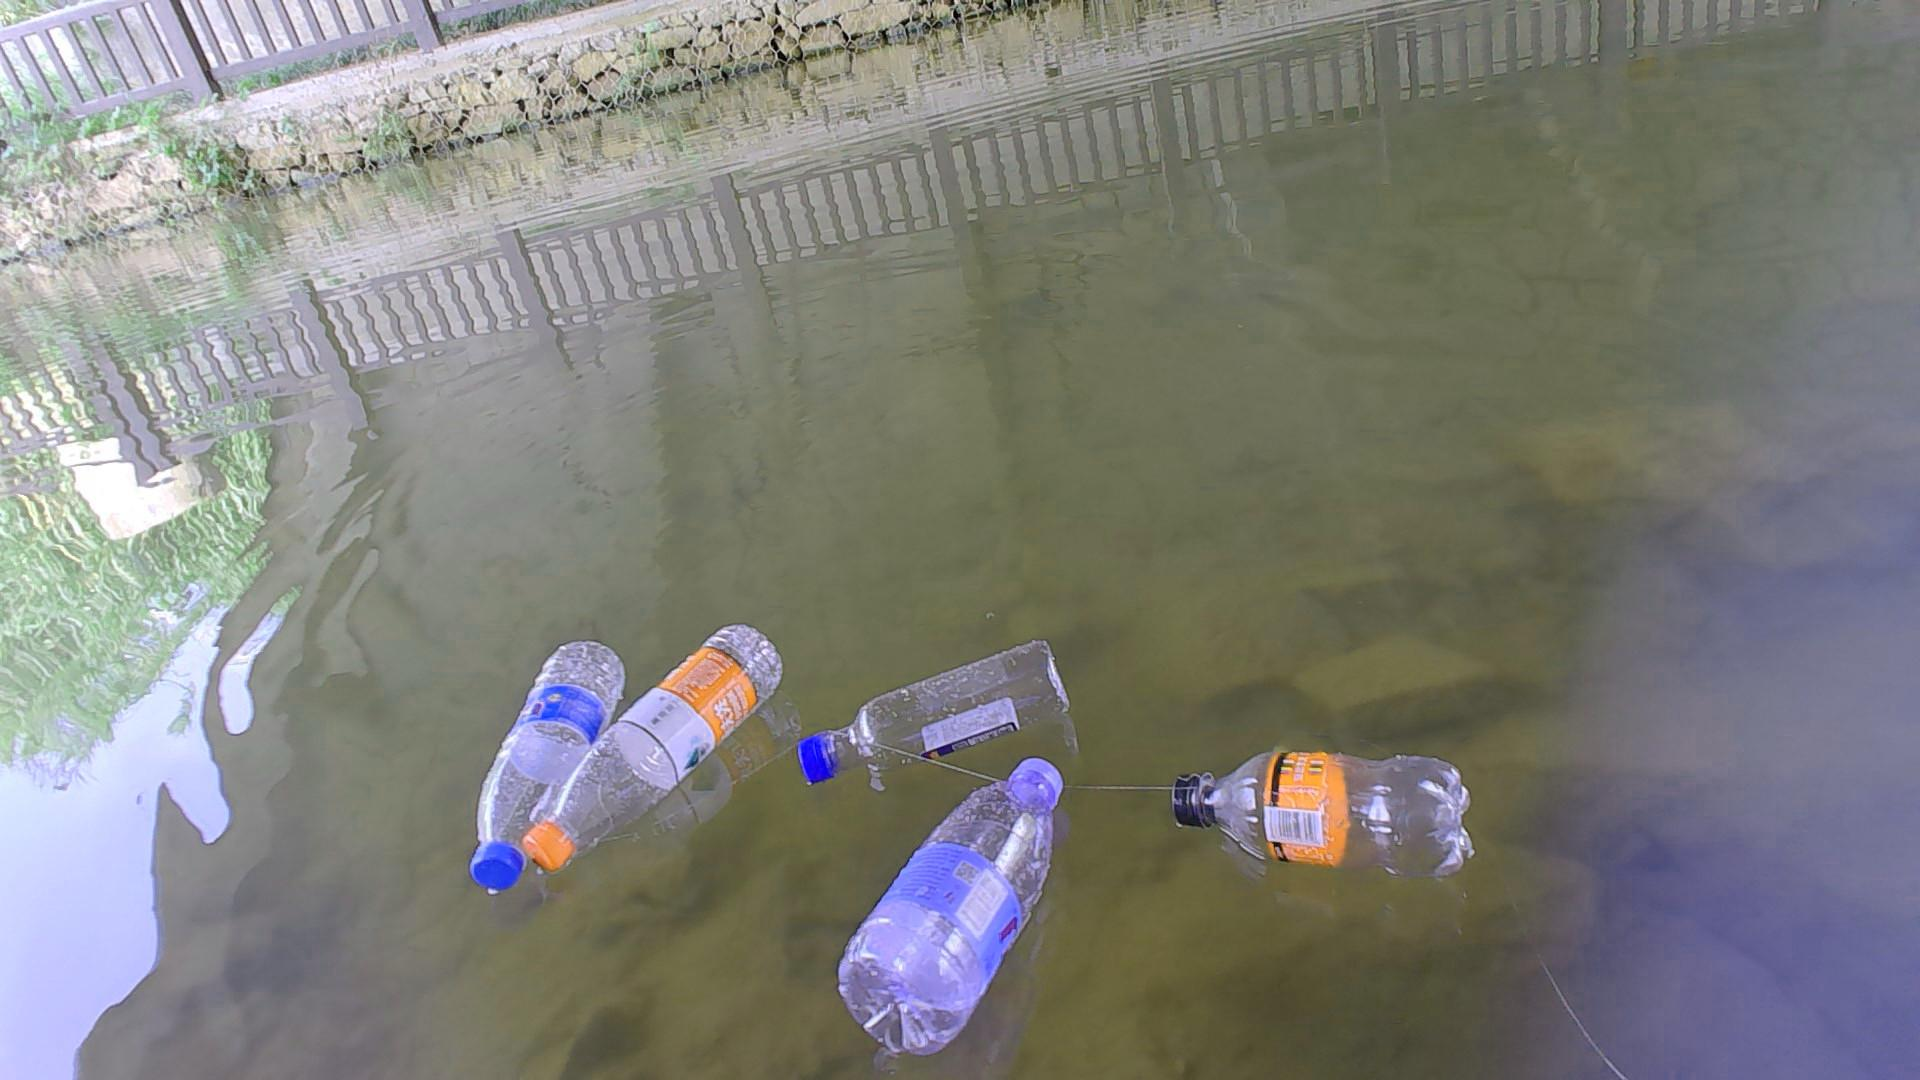Glass: (793, 626, 1076, 777)
Plastic: (837, 752, 1067, 1055), (522, 618, 789, 872), (1163, 736, 1482, 876), (463, 629, 629, 893)
